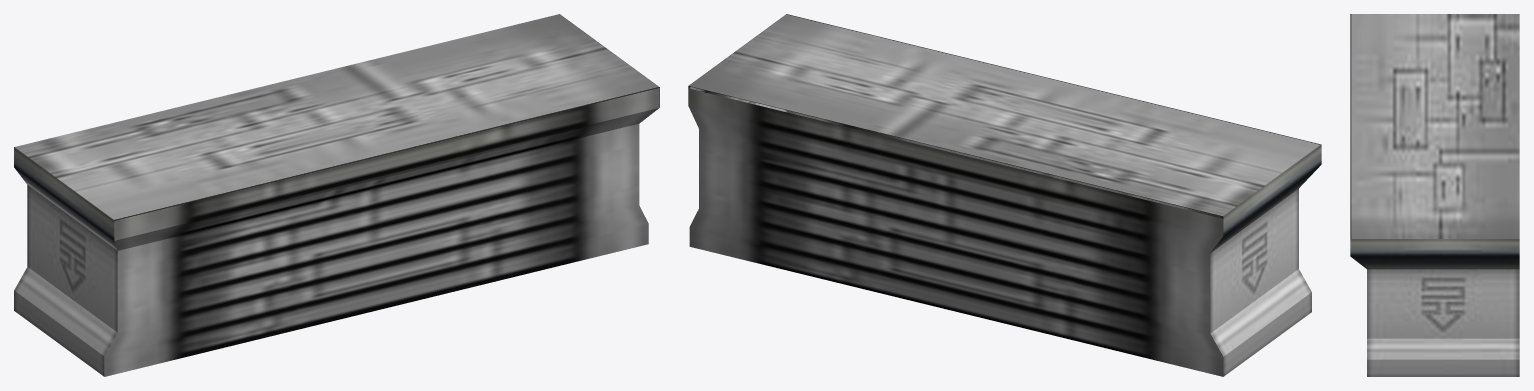
Rendered from air_unit.fbx.
The picture shows the model from 3 angles, left to right: view 1: azimuth 30°, elevation 25°; view 2: azimuth 150°, elevation 25°; view 3: azimuth 270°, elevation 25°; orthographic projection. The views are drawn at different scales.
Parts seen in each view (by area): view 1: Cube; view 2: Cube; view 3: Cube.
Part boxes in pixels (<box>): Cube: <box>14,14,659,376</box>; Cube: <box>688,14,1321,376</box>; Cube: <box>1350,14,1519,376</box>.
Size of the model in its own units: 418 by 120 by 133.
Materials: 1 (1 with a texture image).
